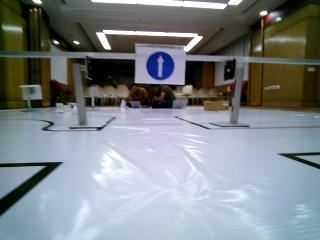straight: (133, 43, 188, 85)
